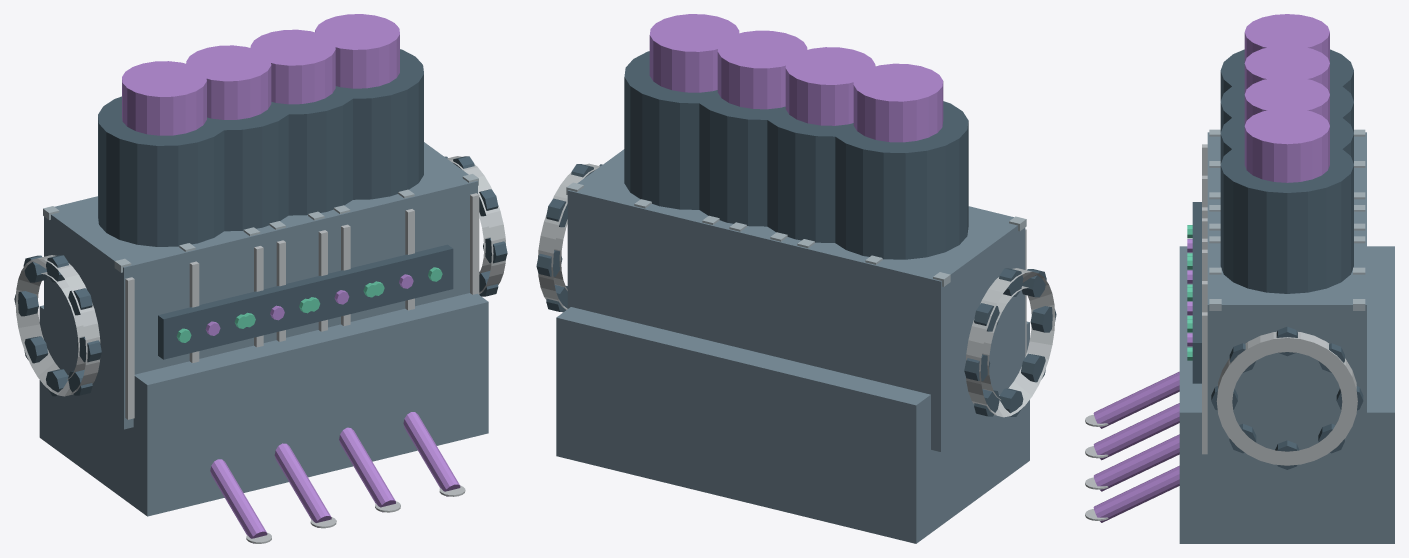
The model's file is 41_L77_MaterialSelectivityAnalyzer.glb.
3 views of the same model, side by side, from view 1: azimuth 30°, elevation 25°; view 2: azimuth 150°, elevation 25°; view 3: azimuth 270°, elevation 25° (orthographic). The views are drawn at different scales.
Visible parts, largest first — view 1: MaterialSelectivityAnalyzer_Node_0000, MaterialSelectivityAnalyzer_Node_0001, MaterialSelectivityAnalyzer_Node_0026, MaterialSelectivityAnalyzer_Node_0127, MaterialSelectivityAnalyzer_Node_0152, MaterialSelectivityAnalyzer_Node_0068, MaterialSelectivityAnalyzer_Node_0110, MaterialSelectivityAnalyzer_Node_0027, MaterialSelectivityAnalyzer_Node_0111, MaterialSelectivityAnalyzer_Node_0153, MaterialSelectivityAnalyzer_Node_0069, MaterialSelectivityAnalyzer_Node_0008 (+14 smaller); view 2: MaterialSelectivityAnalyzer_Node_0000, MaterialSelectivityAnalyzer_Node_0001, MaterialSelectivityAnalyzer_Node_0085, MaterialSelectivityAnalyzer_Node_0026, MaterialSelectivityAnalyzer_Node_0127, MaterialSelectivityAnalyzer_Node_0152, MaterialSelectivityAnalyzer_Node_0043, MaterialSelectivityAnalyzer_Node_0068, MaterialSelectivityAnalyzer_Node_0110, MaterialSelectivityAnalyzer_Node_0027, MaterialSelectivityAnalyzer_Node_0069, MaterialSelectivityAnalyzer_Node_0153 (+3 smaller); view 3: MaterialSelectivityAnalyzer_Node_0000, MaterialSelectivityAnalyzer_Node_0127, MaterialSelectivityAnalyzer_Node_0152, MaterialSelectivityAnalyzer_Node_0143, MaterialSelectivityAnalyzer_Node_0153, MaterialSelectivityAnalyzer_Node_0027, MaterialSelectivityAnalyzer_Node_0069, MaterialSelectivityAnalyzer_Node_0111, MaterialSelectivityAnalyzer_Node_0026, MaterialSelectivityAnalyzer_Node_0169, MaterialSelectivityAnalyzer_Node_0175, MaterialSelectivityAnalyzer_Node_0178 (+10 smaller).
Part boxes in pixels (x1,y1,x2,y2): MaterialSelectivityAnalyzer_Node_0000: (39,293,488,516); MaterialSelectivityAnalyzer_Node_0001: (44,196,284,429); MaterialSelectivityAnalyzer_Node_0026: (98,96,230,246); MaterialSelectivityAnalyzer_Node_0127: (316,142,477,329); MaterialSelectivityAnalyzer_Node_0152: (337,49,423,199); MaterialSelectivityAnalyzer_Node_0068: (200,102,295,231); MaterialSelectivityAnalyzer_Node_0110: (271,86,359,215); MaterialSelectivityAnalyzer_Node_0027: (122,61,206,135); MaterialSelectivityAnalyzer_Node_0111: (250,29,335,104); MaterialSelectivityAnalyzer_Node_0153: (315,14,399,88); MaterialSelectivityAnalyzer_Node_0069: (186,45,271,119); MaterialSelectivityAnalyzer_Node_0008: (15,255,100,396); MaterialSelectivityAnalyzer_Node_0000: (556,307,1029,543); MaterialSelectivityAnalyzer_Node_0001: (771,206,1025,451); MaterialSelectivityAnalyzer_Node_0085: (635,205,805,361); MaterialSelectivityAnalyzer_Node_0026: (829,101,968,259); MaterialSelectivityAnalyzer_Node_0127: (567,149,737,322); MaterialSelectivityAnalyzer_Node_0152: (624,51,723,209); MaterialSelectivityAnalyzer_Node_0043: (703,220,873,378); MaterialSelectivityAnalyzer_Node_0068: (760,106,860,242); MaterialSelectivityAnalyzer_Node_0110: (693,90,791,226); MaterialSelectivityAnalyzer_Node_0027: (853,63,943,142); MaterialSelectivityAnalyzer_Node_0069: (785,47,875,125); MaterialSelectivityAnalyzer_Node_0153: (649,14,739,92); MaterialSelectivityAnalyzer_Node_0000: (1179,246,1394,543); MaterialSelectivityAnalyzer_Node_0127: (1207,257,1366,466); MaterialSelectivityAnalyzer_Node_0152: (1220,144,1353,293); MaterialSelectivityAnalyzer_Node_0143: (1216,331,1357,465); MaterialSelectivityAnalyzer_Node_0153: (1244,108,1329,182); MaterialSelectivityAnalyzer_Node_0027: (1244,14,1329,62); MaterialSelectivityAnalyzer_Node_0069: (1244,45,1329,93); MaterialSelectivityAnalyzer_Node_0111: (1244,76,1329,125); MaterialSelectivityAnalyzer_Node_0026: (1220,49,1353,100); MaterialSelectivityAnalyzer_Node_0169: (1093,371,1179,428); MaterialSelectivityAnalyzer_Node_0175: (1093,434,1179,491); MaterialSelectivityAnalyzer_Node_0178: (1093,465,1179,522).
Bounding box in the file's own units: 1.31 × 1.18 × 0.835.
